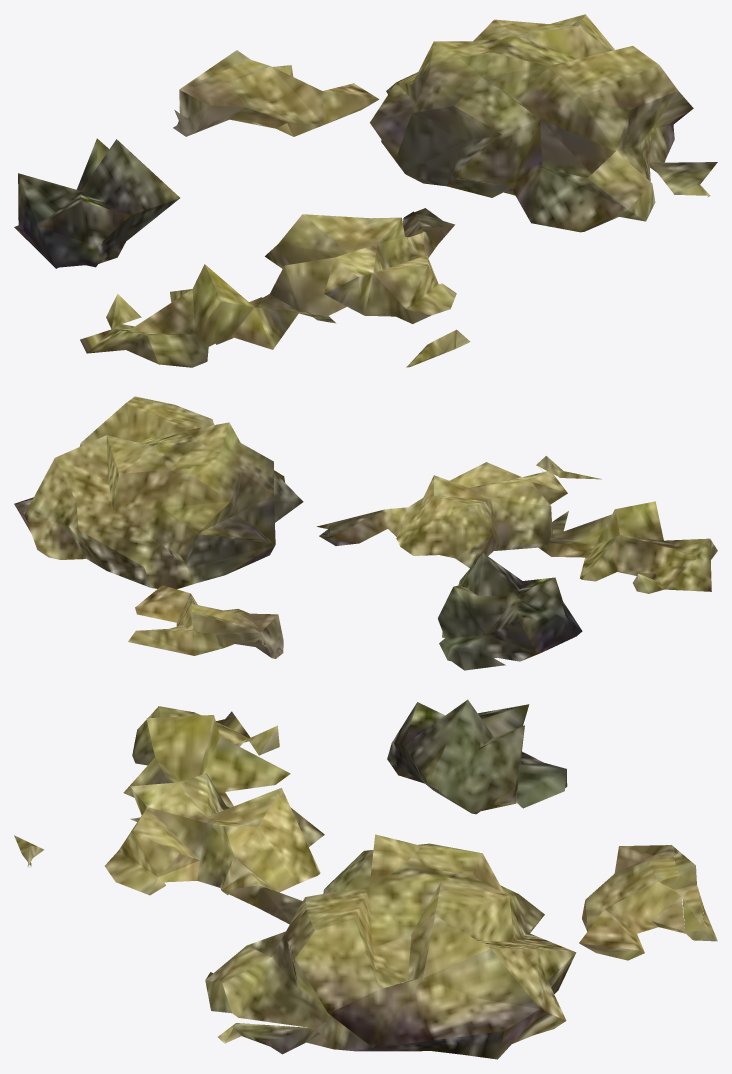
3 views of the same model, one above another, from view 1: azimuth 30°, elevation 25°; view 2: azimuth 150°, elevation 25°; view 3: azimuth 270°, elevation 25° (orthographic). The views are drawn at different scales.
Parts seen in each view (by area): view 1: Mesh_0; view 2: Mesh_0; view 3: Mesh_0.
Boxes of the visible parts, left/top/right/bottom form: Mesh_0: left=14, top=14, right=717, bottom=367; Mesh_0: left=14, top=396, right=717, bottom=670; Mesh_0: left=14, top=699, right=717, bottom=1059.
Bounding box in the file's own units: 24.66 × 4.63 × 21.18.
Materials: 1 (1 with a texture image).
